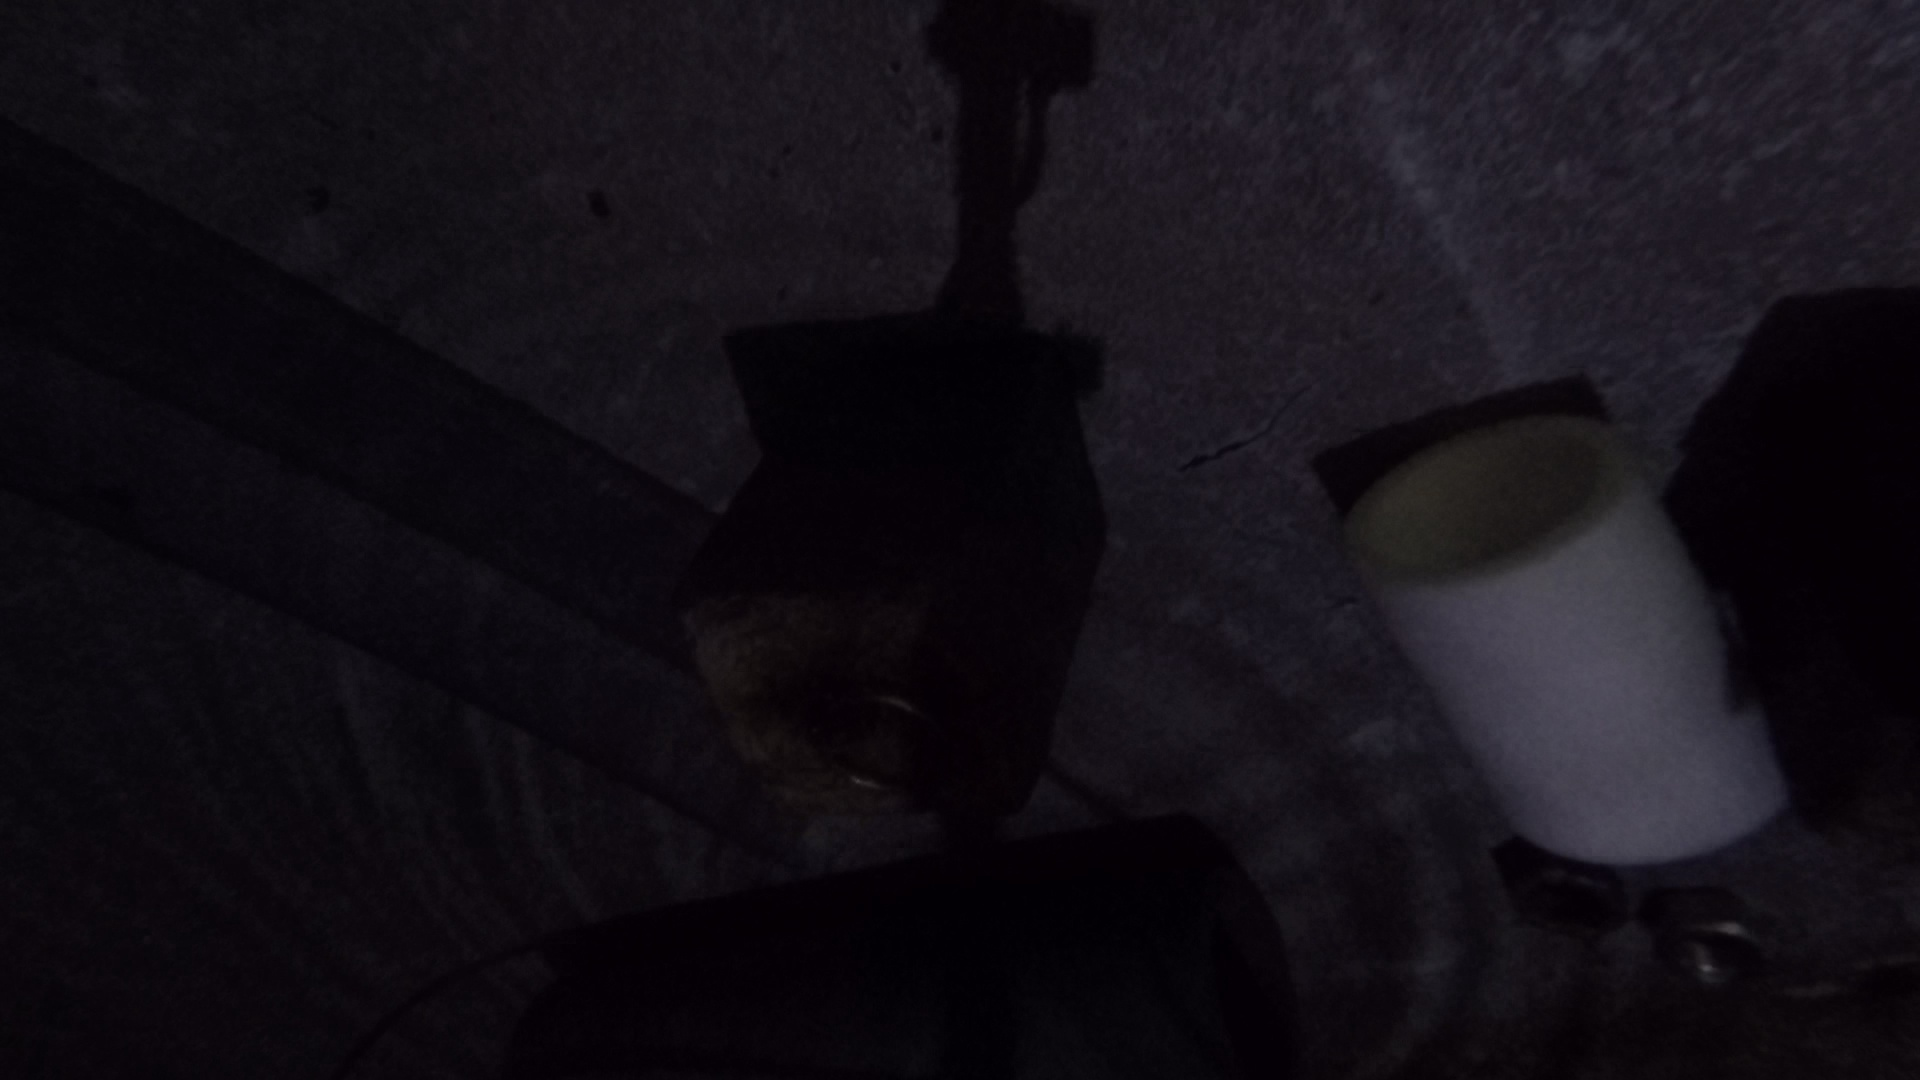led_block: (674, 360, 1112, 819)
nut: (1494, 839, 1629, 938), (1655, 889, 1764, 1007)
pipe: (1, 124, 806, 862), (1340, 411, 1792, 865), (496, 848, 1303, 1080)
